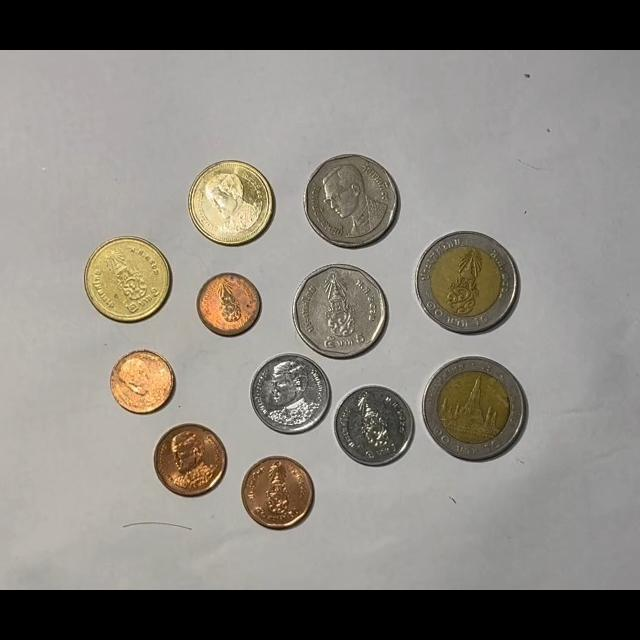1-baht: (333, 385, 415, 466), (250, 353, 330, 434)
10-baht: (422, 356, 528, 461), (414, 231, 520, 334)
2-baht: (188, 160, 275, 246), (85, 237, 171, 323)
25-satang: (110, 349, 176, 414), (196, 272, 262, 337)
5-baht: (291, 264, 387, 359), (304, 154, 401, 248)
50-satang: (240, 456, 314, 529), (154, 423, 227, 496)
